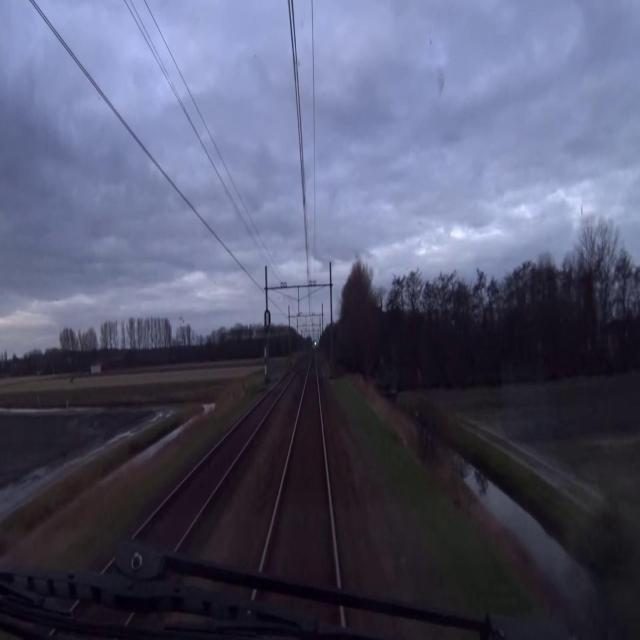rail-track: (140, 364, 300, 546), (265, 357, 336, 580)
